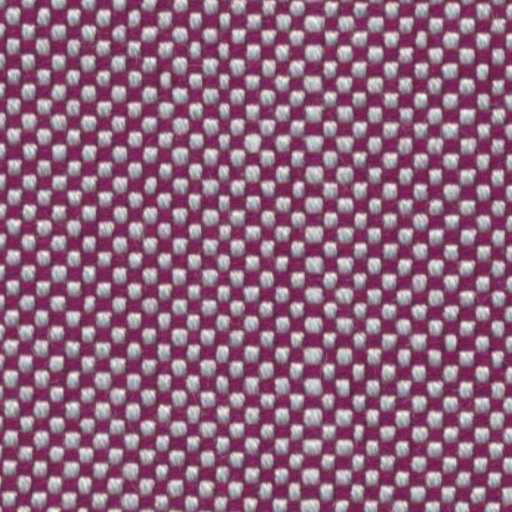TuoSha: (289, 11, 352, 502)
